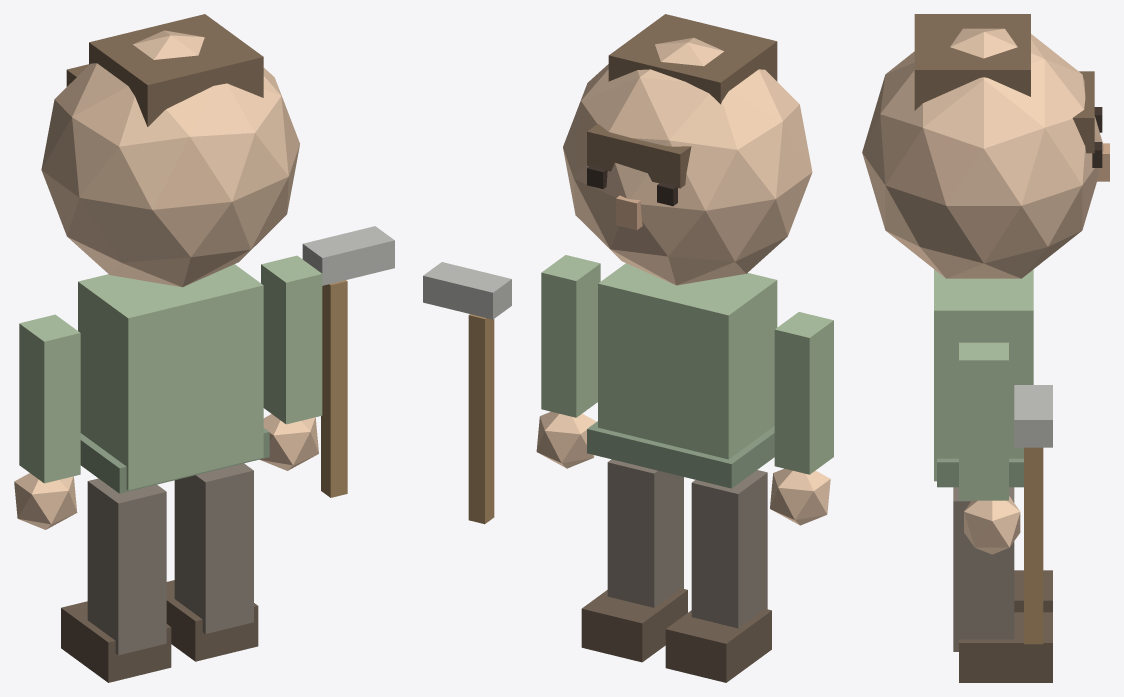
File: villager.glb
The picture shows the model from 3 angles, left to right: view 1: azimuth 30°, elevation 25°; view 2: azimuth 150°, elevation 25°; view 3: azimuth 270°, elevation 25°; orthographic projection. The views are drawn at different scales.
Parts seen in each view (by area): view 1: villager_root; view 2: villager_root; view 3: villager_root.
Boxes of the visible parts, <box> form: villager_root: <box>14,14,394,682</box>; villager_root: <box>423,14,833,682</box>; villager_root: <box>862,14,1109,682</box>.
Size of the model in its own units: 1.11 by 1.7 by 0.621.
